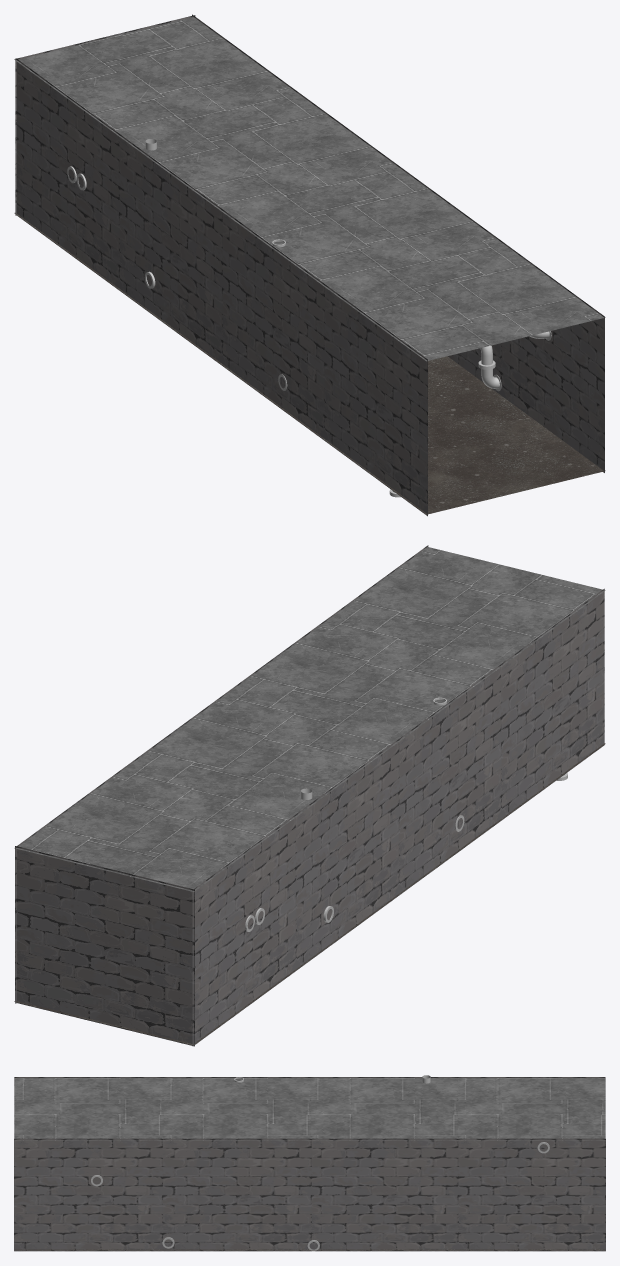
File: oda4.fbx
The picture shows the model from 3 angles, top to bottom: view 1: azimuth 30°, elevation 25°; view 2: azimuth 150°, elevation 25°; view 3: azimuth 270°, elevation 25°; orthographic projection. The views are drawn at different scales.
Visible parts, largest first — view 1: oda3, boru6; view 2: oda3; view 3: oda3.
Part boxes in pixels (left/top/right/bottom): oda3: left=14, top=14, right=605, bottom=516; boru6: left=478, top=331, right=551, bottom=391; oda3: left=14, top=545, right=605, bottom=1046; oda3: left=14, top=1077, right=605, bottom=1251.
Bounding box in the file's own units: 241 × 215 × 954.
